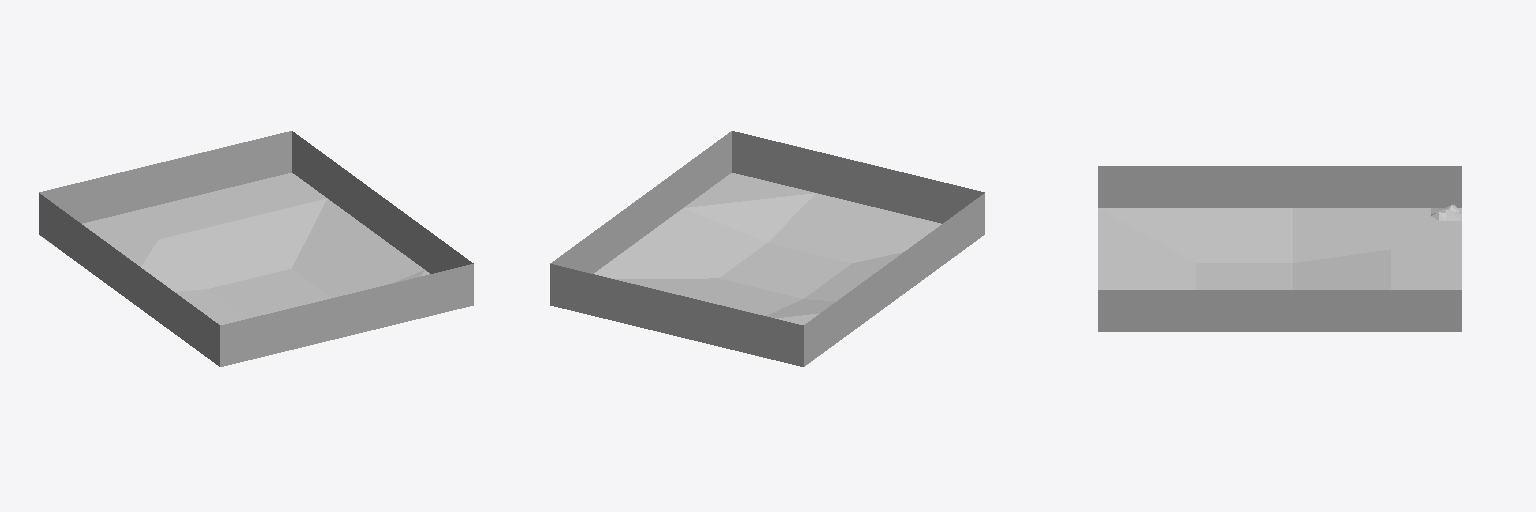
Rendered from terrain.obj.
3 renders of one model, left to right at view 1: azimuth 30°, elevation 25°; view 2: azimuth 150°, elevation 25°; view 3: azimuth 270°, elevation 25°, orthographic.
Bounding box in the file's own units: 19.01 × 3.99 × 23.57.